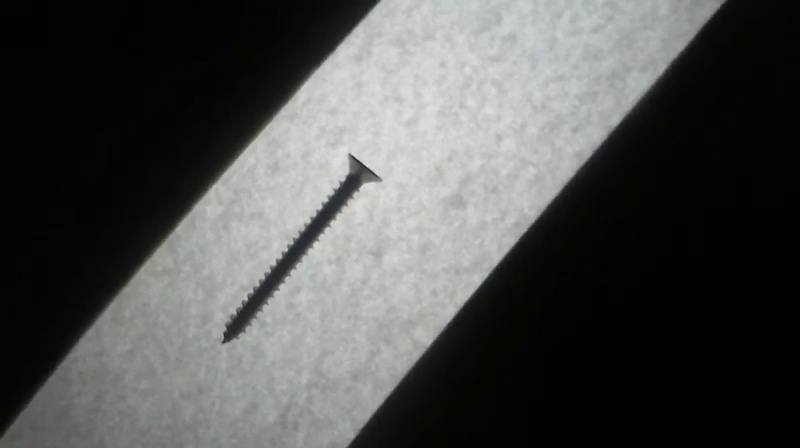S002: (215, 150, 387, 349)
